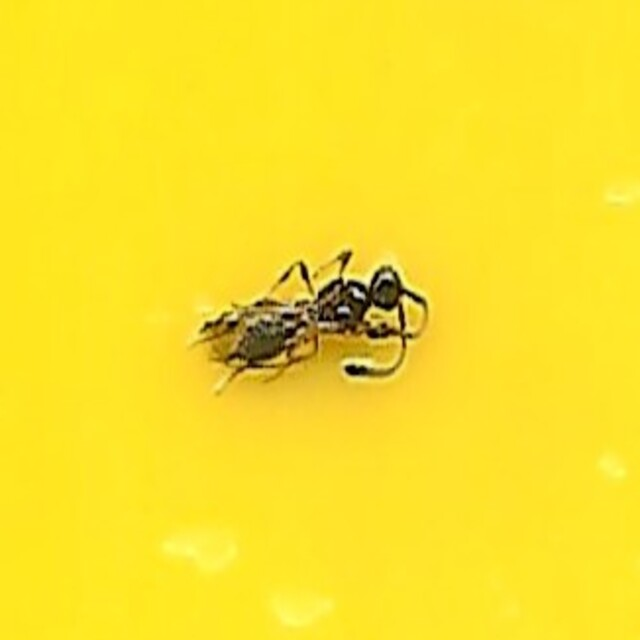Hymenoptera: (196, 245, 444, 395)
